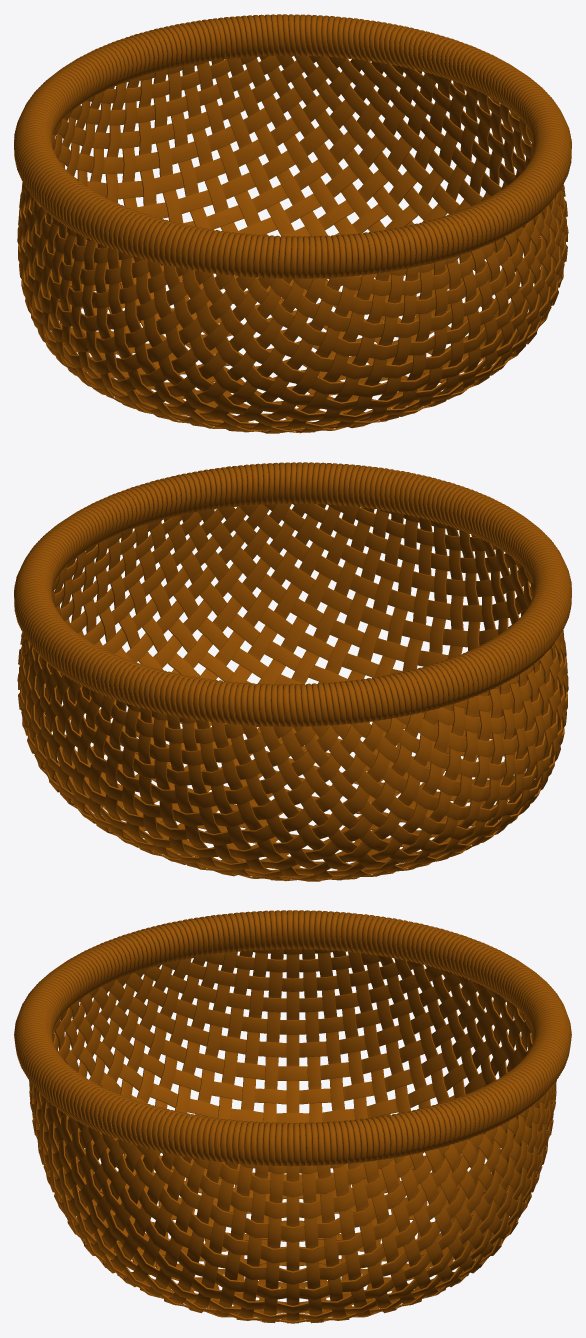
The model's file is basket.fbx.
The picture shows the model from 3 angles, top to bottom: view 1: azimuth 30°, elevation 25°; view 2: azimuth 150°, elevation 25°; view 3: azimuth 270°, elevation 25°; orthographic projection.
Parts seen in each view (by area): view 1: wicker_basket; view 2: wicker_basket; view 3: wicker_basket.
Part boxes in pixels (x1=…): wicker_basket: x1=14, y1=14, x2=571, y2=433; wicker_basket: x1=14, y1=462, x2=571, y2=881; wicker_basket: x1=14, y1=910, x2=571, y2=1323.
Bounding box in the file's own units: 325 × 162 × 332.
